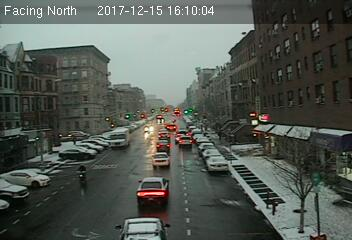bicycle: (76, 163, 88, 185)
car: (115, 215, 171, 240), (137, 175, 170, 205), (206, 154, 230, 172), (151, 152, 172, 169), (155, 139, 171, 153), (179, 136, 194, 148)
truck: (109, 128, 131, 148)
